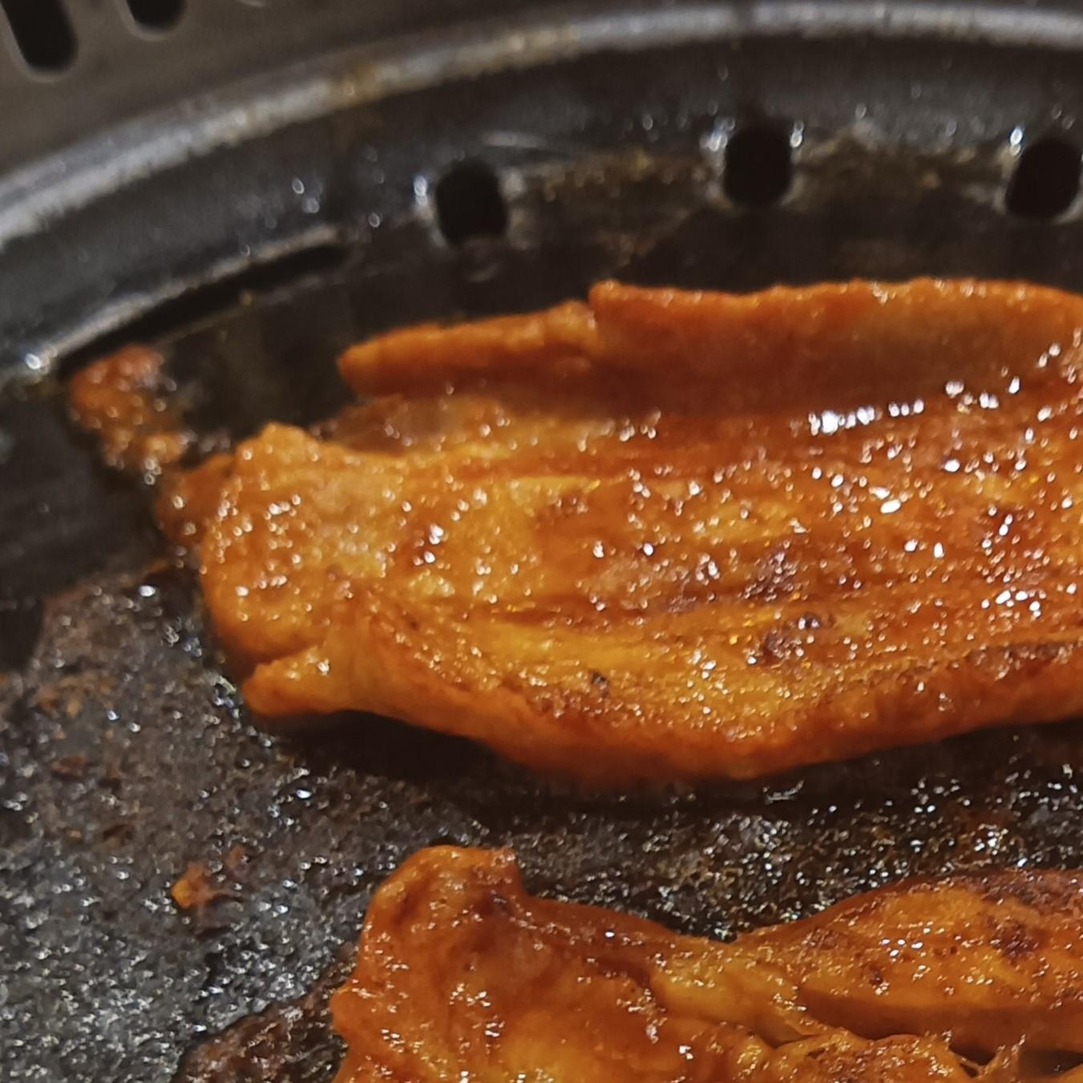Well-Cooked: (129, 278, 1082, 779), (333, 846, 1082, 1082)
